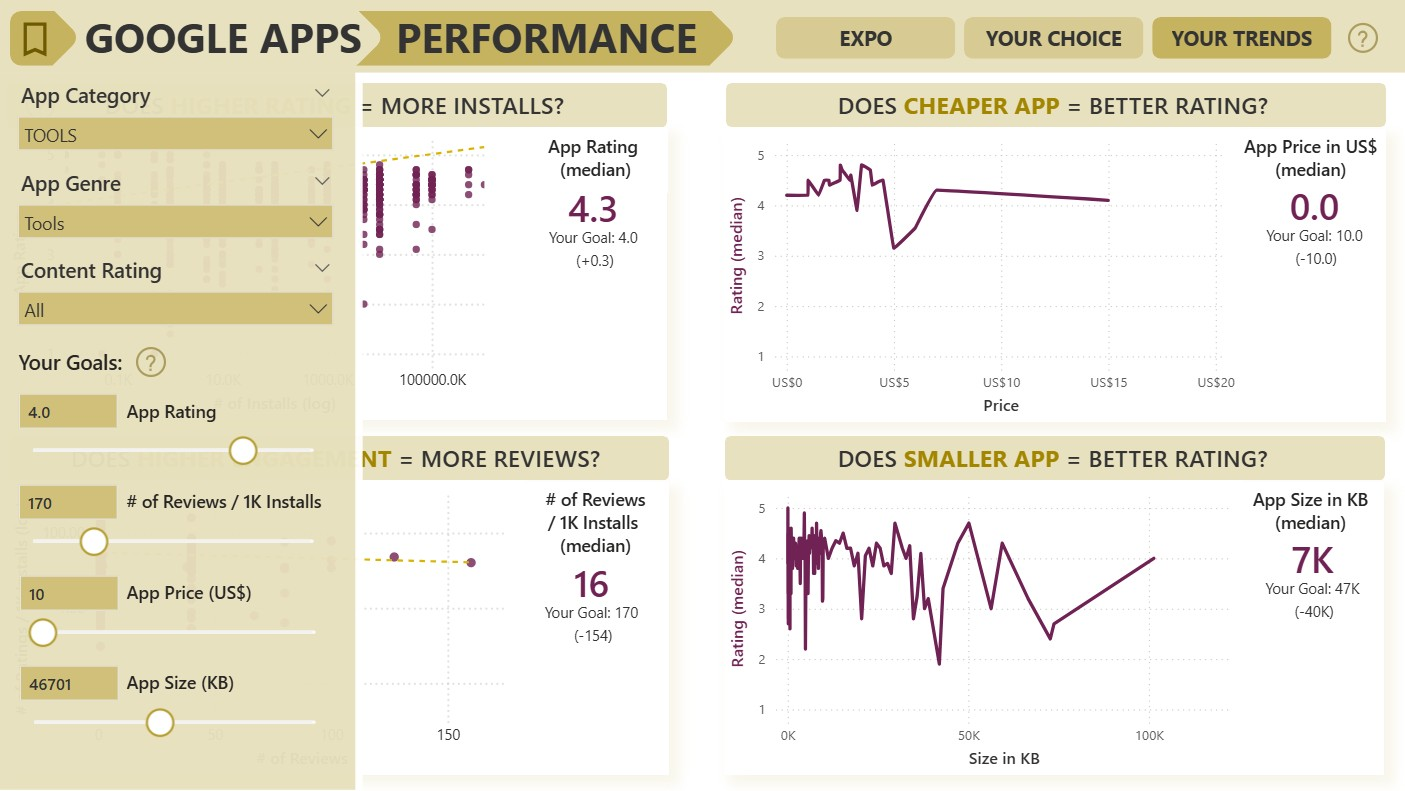

The dashboard page shown, as its layout file describes it:
{"tool":"powerbi","page":{"name":"YOUR TRENDS","canvas":[1280,720],"ordinal":2},"visuals":[{"type":"shape","title":"Top background shape","box":[0,0,1280,66.2],"z":0,"group":"g3"},{"type":"group","id":"g1","title":"RIGHT SECTION","box":[659,75,603,628.6],"z":0},{"type":"shape","title":"Backplot shape","box":[659,437.4,600.1,266.1],"z":0,"group":"g1"},{"type":"shape","title":"Backplot shape","box":[9.2,437.5,600.1,266.1],"z":0,"group":"g2"},{"type":"shape","title":"Top foreground shape","box":[9.9,9.9,682.6,49.7],"z":1000,"group":"g3"},{"type":"group","id":"g2","title":"LEFT SECTION","box":[7.5,75.1,602,628.6],"z":1000},{"type":"kpi","title":"Goal App Size","fields":{"Indicator":["_Measures.Med Size KB"],"Goal":["goal_AppSize.goal_AppSize Value"],"TrendLine":["dim_App.Last Updated.Variation.Date Hierarchy.Year"]},"box":[1128.1,458.1,131.7,131.7],"z":1000,"group":"g1"},{"type":"kpi","title":"Goal # of Reviews / 1K Installs","fields":{"Indicator":["_Measures.Med Ratings per1K Installs"],"Goal":["goal_Ratings/1KInstalls .goal_Ratings/1KInstalls  Value"],"TrendLine":["dim_App.Last Updated.Variation.Date Hierarchy.Year"]},"box":[484.2,492,109.9,105.6],"z":1000,"group":"g2"},{"type":"actionButton","title":"Top question button","box":[1220.4,15.6,39.7,38.3],"z":2000,"group":"g3"},{"type":"textbox","title":"App Size","box":[1126.5,437.6,131.7,57.7],"z":2000,"group":"g1"},{"type":"textbox","title":"# of Reviews / 1K Installs","box":[476.6,437.7,131.7,78.4],"z":2000,"group":"g2"},{"type":"group","id":"g3","title":"TOP SECTION","box":[0,0,1280,66.2],"z":3000},{"type":"shape","title":"Arrow shape 2","box":[42.4,3,308.3,62.5],"z":3000,"group":"g3"},{"type":"lineChart","title":"DOES SMALLER APP = BETTER RATING?","fields":{"Y":["Median(dim_App.Rating Value)"],"Category":["dim_App.Size KB"]},"box":[659.5,436,470,267],"z":3000,"group":"g1"},{"type":"scatterChart","title":"DOES HIGH ENGAGEMENT = MORE REVIEWS","fields":{"Category":["dim_App.App_id"],"X":["_Measures.Indiv Count of Reviews"],"Y":["_Measures.Indiv Ratings Count per1K Installs"]},"box":[9.5,436.1,470,267],"z":3000,"group":"g2"},{"type":"shape","title":"Arrow shape 1","box":[640,3,77.4,62.5],"z":4000,"group":"g3"},{"type":"shape","title":"Right subtitle 2 shape","box":[660.3,396,600,40.4],"z":4000,"group":"g1"},{"type":"shape","title":"Left subtitle 2 shape","box":[9.5,396.1,600,40.3],"z":4000,"group":"g2"},{"type":"actionButton","title":"PANEL TURN ON","box":[13,15.1,40.3,40.3],"z":5000},{"type":"pageNavigator","box":[706.4,15.8,506.5,38.2],"z":5000,"group":"g3"},{"type":"textbox","title":"Right subtitle 2: Does smaller app = better rating?","box":[660.6,399,600,36],"z":5000,"group":"g1"},{"type":"textbox","title":"Left subtitle 2: Does high engagement = more reviews?","box":[9.5,399.1,600,36],"z":5000,"group":"g2"},{"type":"textbox","title":"Top title text","box":[9.9,3,682.6,62.4],"z":6000,"group":"g3"},{"type":"shape","title":"Backplot shape","box":[7.5,115.1,600.1,266],"z":6000,"group":"g2"},{"type":"shape","title":"Backplot shape","box":[661.2,116.4,600.1,266.1],"z":6000,"group":"g1"},{"type":"kpi","title":"Goal App Rating","fields":{"Goal":["goal_AppRating.goal_AppRating Value"],"Indicator":["Median(dim_App.Rating Value)"],"TrendLine":["dim_App.Last Updated.Variation.Date Hierarchy.Year"]},"box":[481,157.8,118.6,93.6],"z":6500,"group":"g2"},{"type":"kpi","title":"Goal App Price","fields":{"Indicator":["_Measures.Med Price USD"],"Goal":["goal_AppPrice.goal_AppPrice Value"],"TrendLine":["dim_App.Last Updated.Variation.Date Hierarchy.Year"]},"box":[1130.3,155.5,131.7,93.6],"z":7000,"group":"g1"},{"type":"textbox","title":"App Rating (median)","box":[477,116.5,131.7,57.7],"z":7001,"group":"g2"},{"type":"textbox","title":"App Price","box":[1126.5,116.5,132,57.7],"z":8000,"group":"g1"},{"type":"lineChart","title":"DOES CHEAPER APP = BETTER RATING?","fields":{"Y":["_Measures.Med Rating"],"Category":["dim_App.Price USD"]},"box":[659,115,470,267],"z":9000,"group":"g1"},{"type":"scatterChart","title":"DOES HIGH RATING = MORE INSTALLS?","fields":{"Y":["_Measures.Indiv Rating"],"X":["_Measures.Indiv Installs"],"Category":["dim_App.App_id"]},"box":[7.5,115.1,470,265.5],"z":9000,"group":"g2"},{"type":"shape","title":"Right subtitle 1 shape","box":[660.6,75,600,40],"z":10000,"group":"g1"},{"type":"shape","title":"Left subtitle 1 shape","box":[7.5,75.1,600,40.3],"z":10000,"group":"g2"},{"type":"textbox","title":"Left subtitle 1: Does high rating = more instals?","box":[8.5,75.1,600,36],"z":11000,"group":"g2"},{"type":"textbox","title":"Right subtitle 1: Does cheaper app = better rating?","box":[660.6,78,600.5,36],"z":11000,"group":"g1"},{"type":"actionButton","title":"Left question button","box":[19.7,75.1,37.3,39],"z":12000,"group":"g2"}]}

Visuals, with their boxes in screenshot pixels (x1, y1, x2, y2), scaled from the page's 1280x720 canvas onto the 1405x791 screenshot:
"Top background shape" shape: bbox(0, 0, 1404, 73)
"RIGHT SECTION" group: bbox(723, 82, 1385, 773)
"Backplot shape" shape: bbox(723, 481, 1382, 773)
"Backplot shape" shape: bbox(10, 481, 669, 773)
"Top foreground shape" shape: bbox(11, 11, 760, 65)
"LEFT SECTION" group: bbox(8, 83, 669, 773)
"Goal App Size" kpi: bbox(1238, 503, 1383, 648)
"Goal # of Reviews / 1K Installs" kpi: bbox(531, 541, 652, 657)
"Top question button" actionButton: bbox(1340, 17, 1383, 59)
"App Size" textbox: bbox(1237, 481, 1381, 544)
"# of Reviews / 1K Installs" textbox: bbox(523, 481, 668, 567)
"TOP SECTION" group: bbox(0, 0, 1404, 73)
"Arrow shape 2" shape: bbox(47, 3, 385, 72)
"DOES SMALLER APP = BETTER RATING?" lineChart: bbox(724, 479, 1240, 772)
"DOES HIGH ENGAGEMENT = MORE REVIEWS" scatterChart: bbox(10, 479, 526, 772)
"Arrow shape 1" shape: bbox(702, 3, 787, 72)
"Right subtitle 2 shape" shape: bbox(725, 435, 1383, 479)
"Left subtitle 2 shape" shape: bbox(10, 435, 669, 479)
"PANEL TURN ON" actionButton: bbox(14, 17, 59, 61)
pageNavigator: bbox(775, 17, 1331, 59)
"Right subtitle 2: Does smaller app = better rating?" textbox: bbox(725, 438, 1384, 478)
"Left subtitle 2: Does high engagement = more reviews?" textbox: bbox(10, 438, 669, 478)
"Top title text" textbox: bbox(11, 3, 760, 72)
"Backplot shape" shape: bbox(8, 126, 667, 419)
"Backplot shape" shape: bbox(726, 128, 1384, 420)
"Goal App Rating" kpi: bbox(528, 173, 658, 276)
"Goal App Price" kpi: bbox(1241, 171, 1385, 274)
"App Rating (median)" textbox: bbox(524, 128, 668, 191)
"App Price" textbox: bbox(1237, 128, 1381, 191)
"DOES CHEAPER APP = BETTER RATING?" lineChart: bbox(723, 126, 1239, 420)
"DOES HIGH RATING = MORE INSTALLS?" scatterChart: bbox(8, 126, 524, 418)
"Right subtitle 1 shape" shape: bbox(725, 82, 1384, 126)
"Left subtitle 1 shape" shape: bbox(8, 83, 667, 127)
"Left subtitle 1: Does high rating = more instals?" textbox: bbox(9, 83, 668, 122)
"Right subtitle 1: Does cheaper app = better rating?" textbox: bbox(725, 86, 1384, 125)
"Left question button" actionButton: bbox(22, 83, 63, 125)
